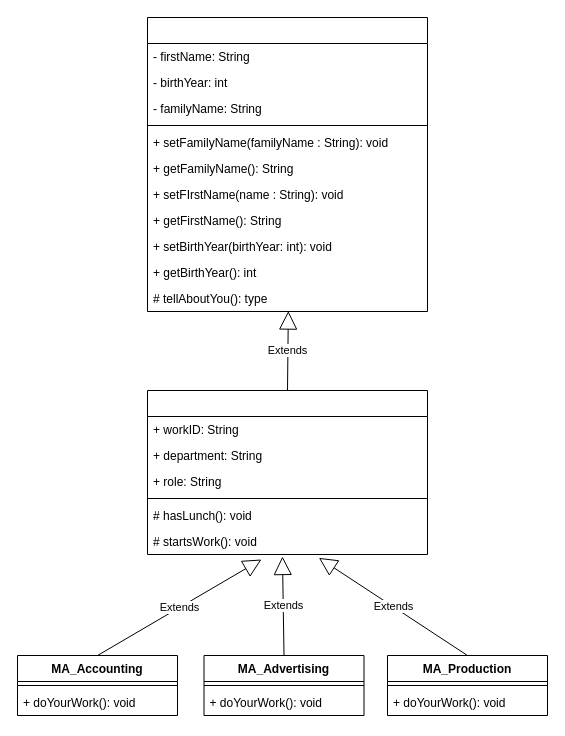
Some shapes in this 565 by 736 pixel diagram are drawn without their labels. The shapes that lost their labels are listed below. From the top down, each one's box as (x1, y1, x2, y2) in pixels, then its label:
(146, 16, 428, 312): Person
(146, 390, 428, 554): Mitarbeiter
